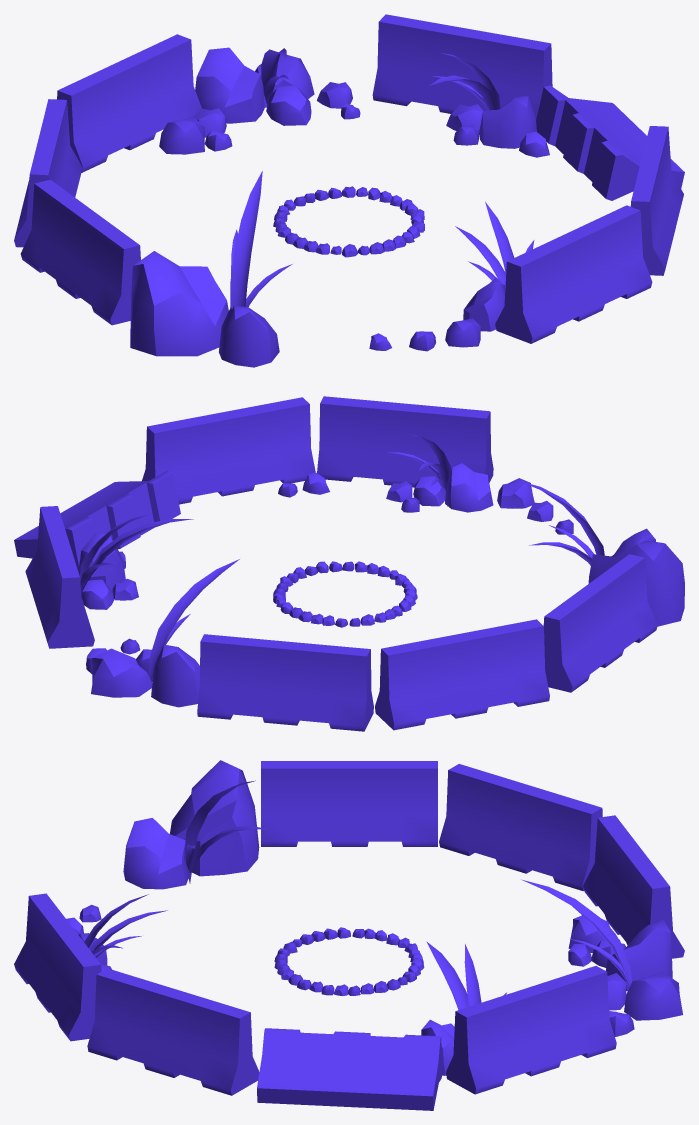
File: ADML_Arena_Border.fbx
3 views of the same model, one above another, from view 1: azimuth 30°, elevation 25°; view 2: azimuth 150°, elevation 25°; view 3: azimuth 270°, elevation 25° (orthographic). The views are drawn at different scales.
Parts seen in each view (by area): view 1: ADML_Arena_Border; view 2: ADML_Arena_Border; view 3: ADML_Arena_Border.
Part boxes in pixels (x1,y1,x2,y2): ADML_Arena_Border: (14,14,684,367); ADML_Arena_Border: (14,396,684,731); ADML_Arena_Border: (14,760,684,1110).
Bounding box in the file's own units: 317 × 315 × 68.7.
